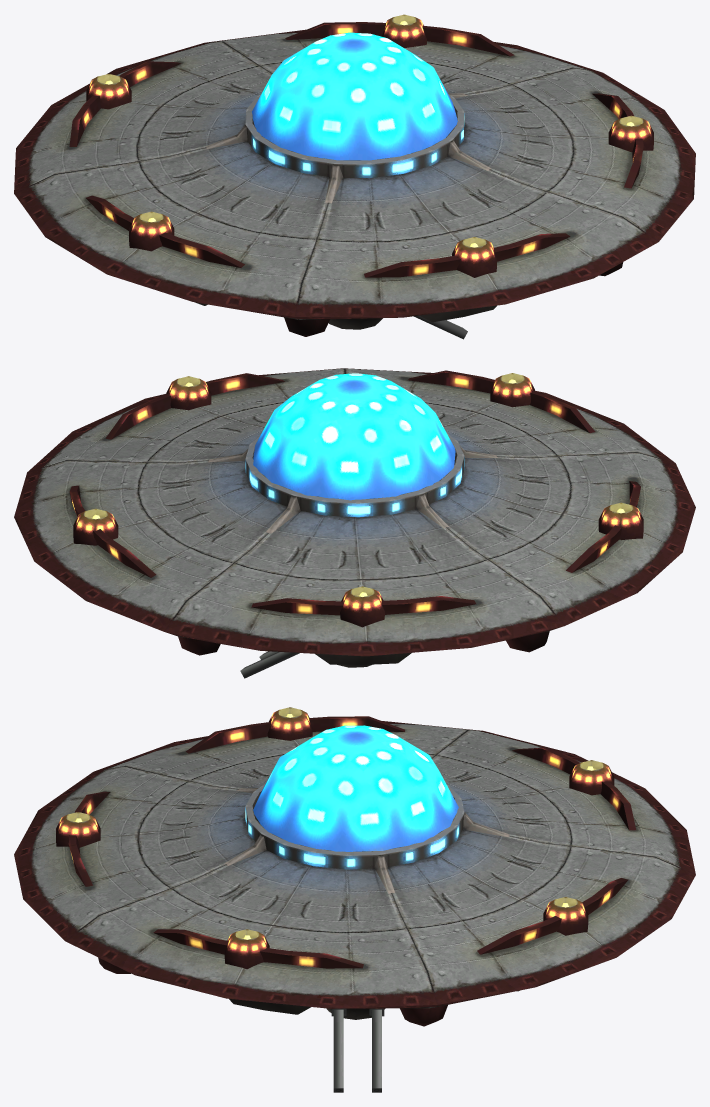
Rendered from ufo.glb.
3 views of the same model, one above another, from view 1: azimuth 30°, elevation 25°; view 2: azimuth 150°, elevation 25°; view 3: azimuth 270°, elevation 25° (orthographic).
Parts seen in each view (by area): view 1: ufo001; view 2: ufo001; view 3: ufo001.
Part boxes in pixels (x1,y1,x2,y2): ufo001: (14,14,695,339); ufo001: (14,368,695,678); ufo001: (14,707,695,1092).
Bounding box in the file's own units: 108 × 54.42 × 108.
1 material, 1 textured.
